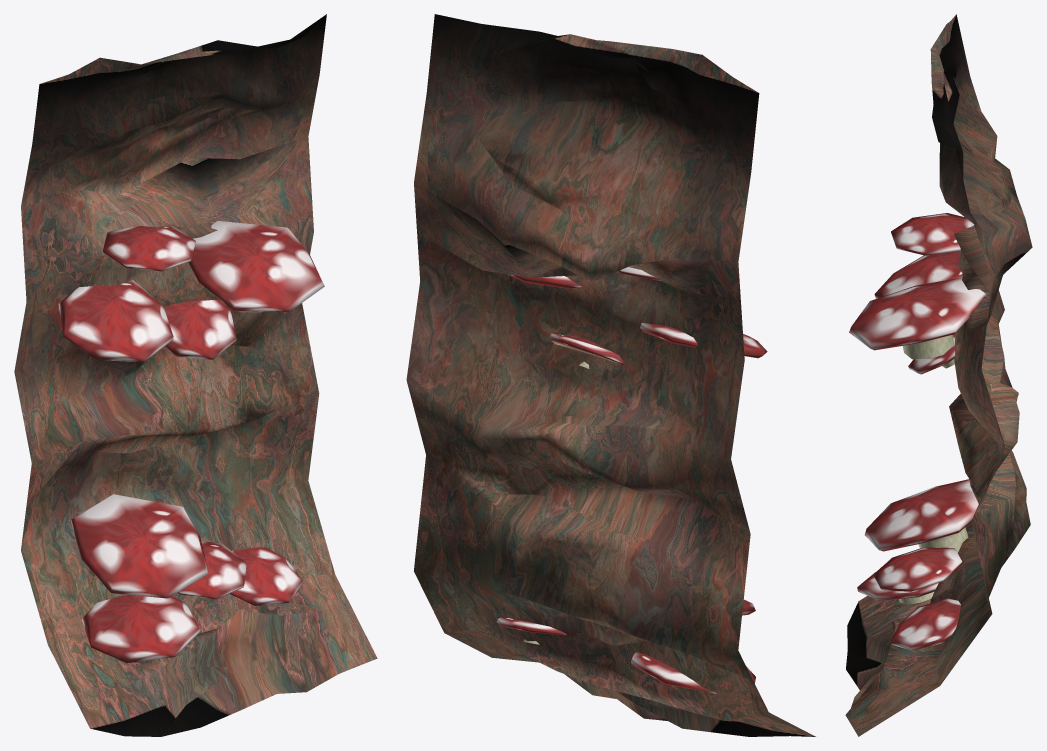
The model's file is cave_shrooms_straight2.glb.
3 views of the same model, side by side, from view 1: azimuth 30°, elevation 25°; view 2: azimuth 150°, elevation 25°; view 3: azimuth 270°, elevation 25° (orthographic). The views are drawn at different scales.
Visible parts, largest first — view 1: cave_straight_shrooms2; view 2: cave_straight_shrooms2; view 3: cave_straight_shrooms2.
Boxes of the visible parts, box(x1,y1,x2,y2) form: cave_straight_shrooms2: box(14, 14, 377, 736); cave_straight_shrooms2: box(406, 14, 815, 736); cave_straight_shrooms2: box(845, 14, 1032, 736).
Size of the model in its own units: 2 by 4.28 by 1.17.
Materials: 2 (2 with a texture image).
